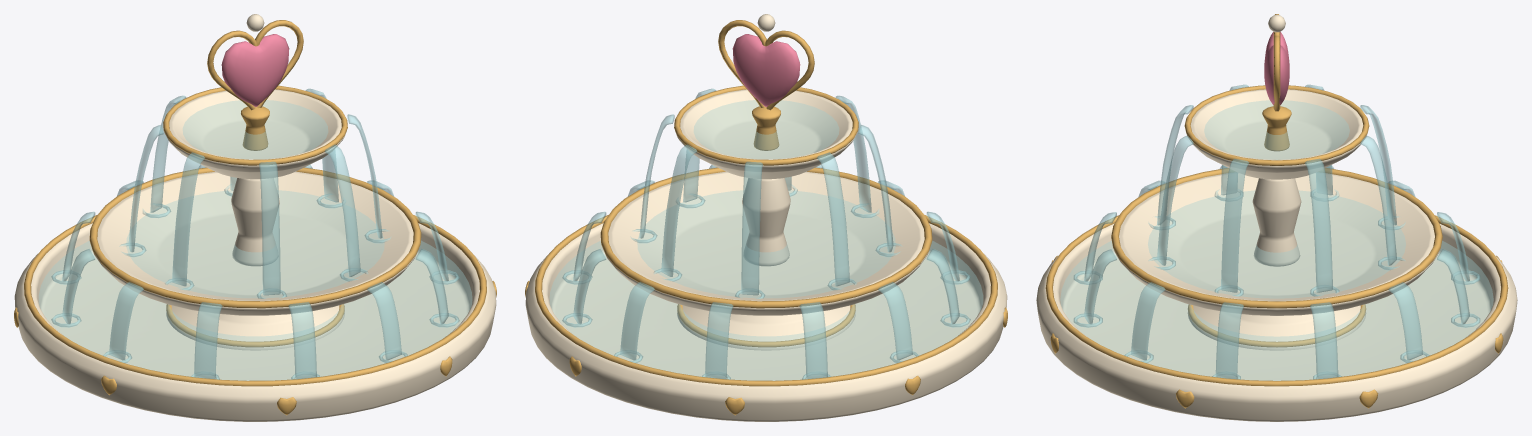
Rendered from pool-fountain.glb.
The picture shows the model from 3 angles, left to right: view 1: azimuth 30°, elevation 25°; view 2: azimuth 150°, elevation 25°; view 3: azimuth 270°, elevation 25°; orthographic projection.
Visible parts, largest first — view 1: PoolFountain; view 2: PoolFountain; view 3: PoolFountain.
Part boxes in pixels (x1,y1,x2,y2): PoolFountain: (14, 14, 496, 421); PoolFountain: (525, 14, 1007, 421); PoolFountain: (1036, 14, 1517, 421).
Size of the model in its own units: 2.15 by 1.52 by 2.15.
